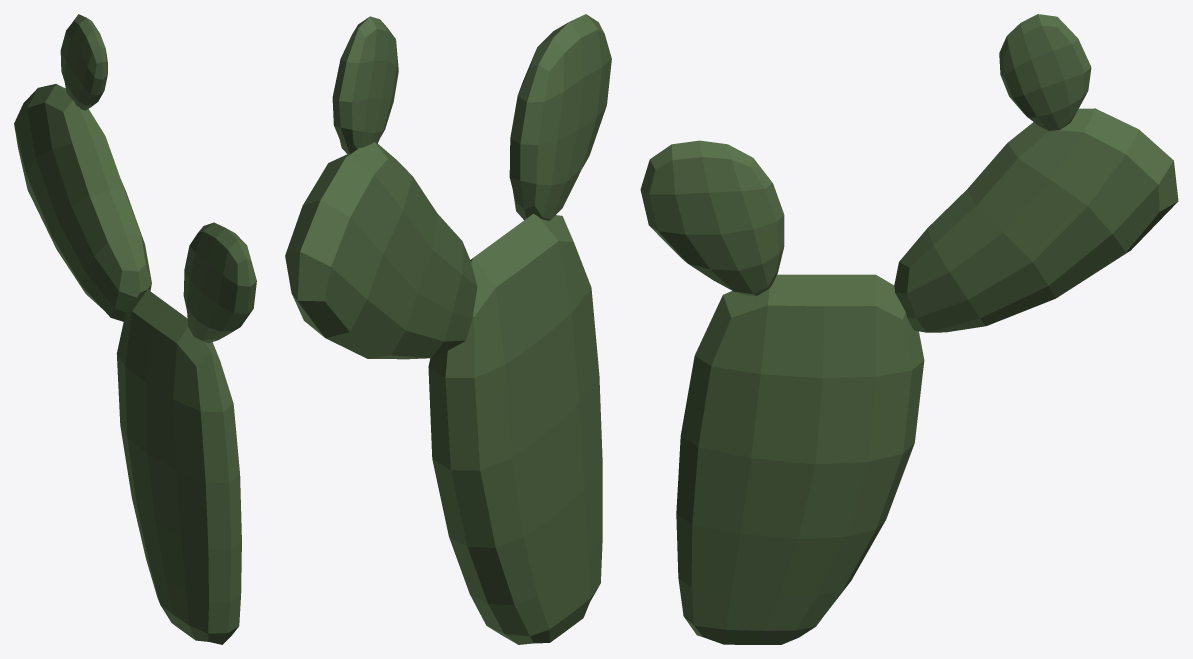
Rendered from cactus_5.glb.
3 views of the same model, side by side, from view 1: azimuth 30°, elevation 25°; view 2: azimuth 150°, elevation 25°; view 3: azimuth 270°, elevation 25° (orthographic). The views are drawn at different scales.
Visible parts, largest first — view 1: Cactus_5; view 2: Cactus_5; view 3: Cactus_5.
Boxes of the visible parts, x1,y1,x2,y2 form: Cactus_5: [14, 14, 256, 644]; Cactus_5: [285, 14, 611, 644]; Cactus_5: [640, 14, 1178, 644].
Size of the model in its own units: 0.1116 by 0.8812 by 0.6804.
